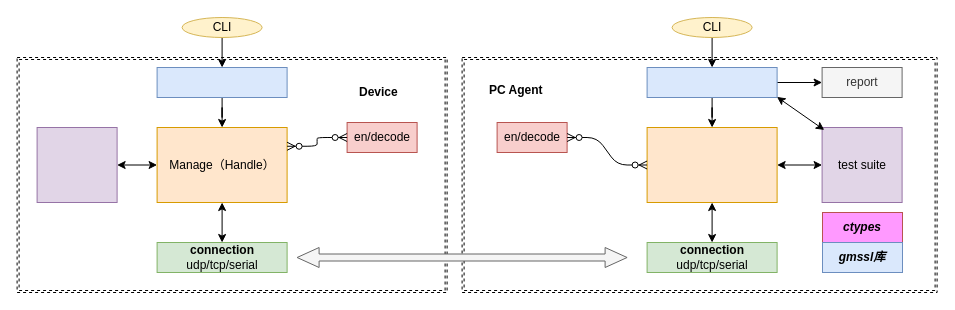
The diagram is 955 pixels wide and 310 high, and some of its shapes have lost their labels. The centre of each missing label's shape, as x and y in pixels:
"cmd api" belongs at (x=76, y=164).
"main" belongs at (x=221, y=82).
"Manage（Handle） Enhance" belongs at (x=711, y=164).
"pytest" belongs at (x=711, y=82).
